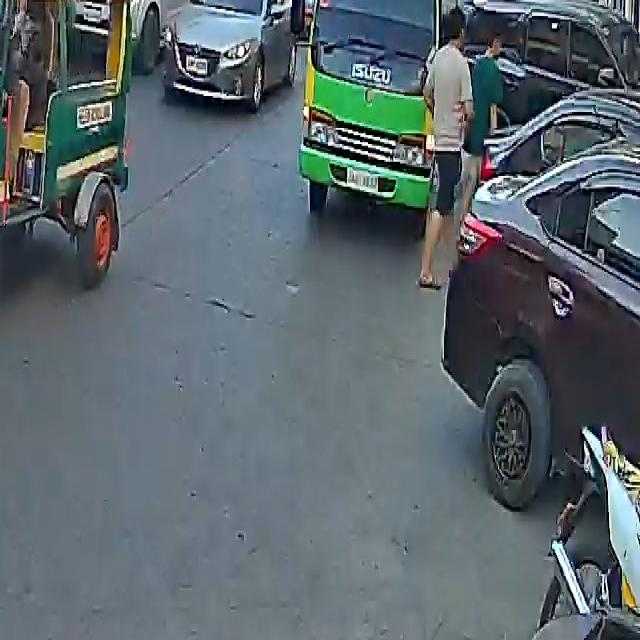car: (442, 64, 640, 530), (465, 0, 640, 116), (163, 0, 299, 110), (118, 0, 196, 27)
